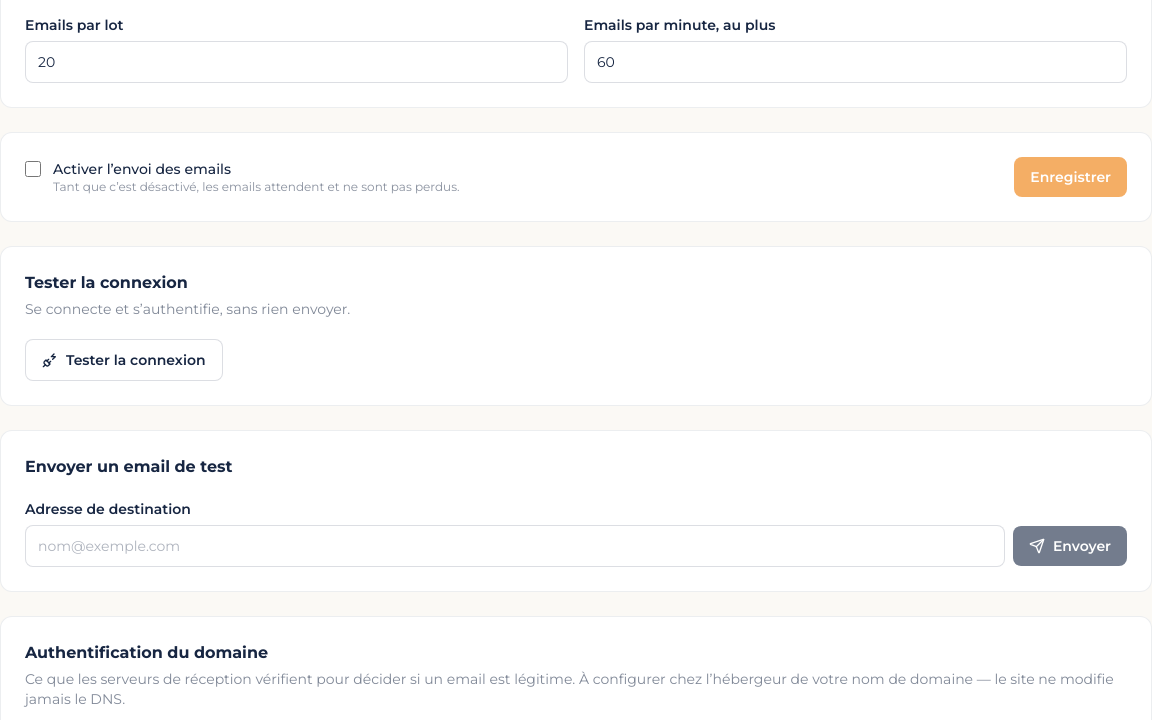
Scenario: Email settings screen › says a failed test failed, in its own words
(page scrolled)
Click the button "Tester la connexion": (124,360) [25,339,223,381]
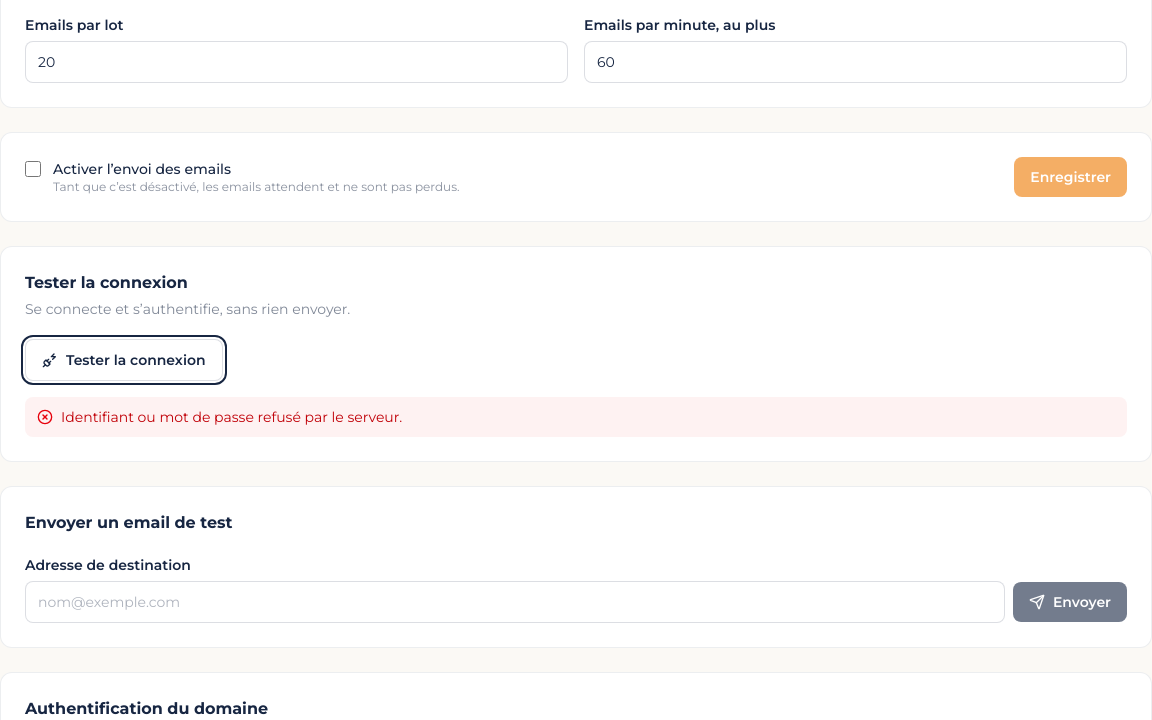
Result: the text "Identifiant ou mot de passe refusé par le serveur." is shown at [61,407,402,427]
